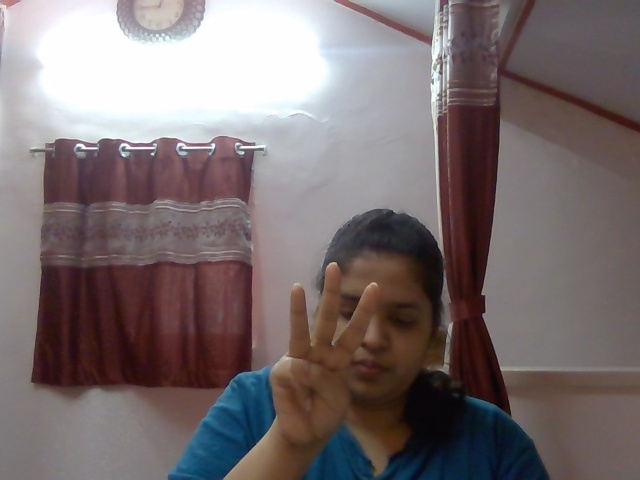w: (246, 255, 395, 452)
